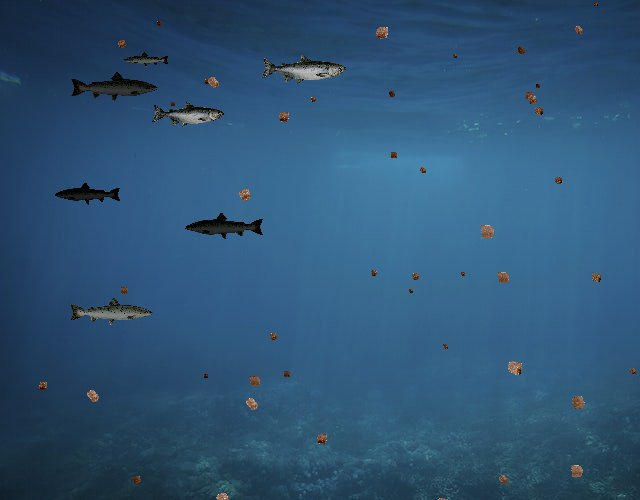Fish: (69, 70, 159, 103), (68, 296, 154, 327), (260, 54, 346, 85), (184, 211, 265, 240), (151, 101, 224, 128), (54, 181, 122, 206), (123, 52, 170, 69)
Pellet: (473, 217, 501, 245), (491, 265, 515, 289), (201, 71, 225, 95), (493, 469, 513, 489), (522, 89, 542, 109), (458, 268, 468, 278)
